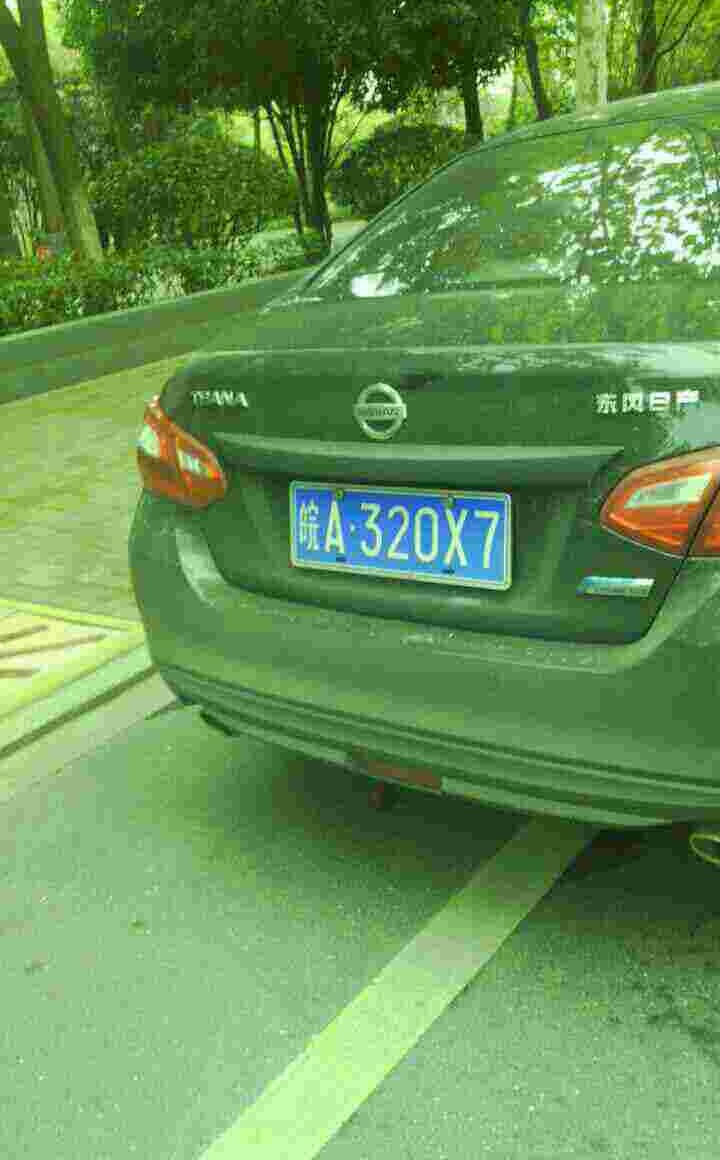license_plate: (290, 494, 506, 582)
